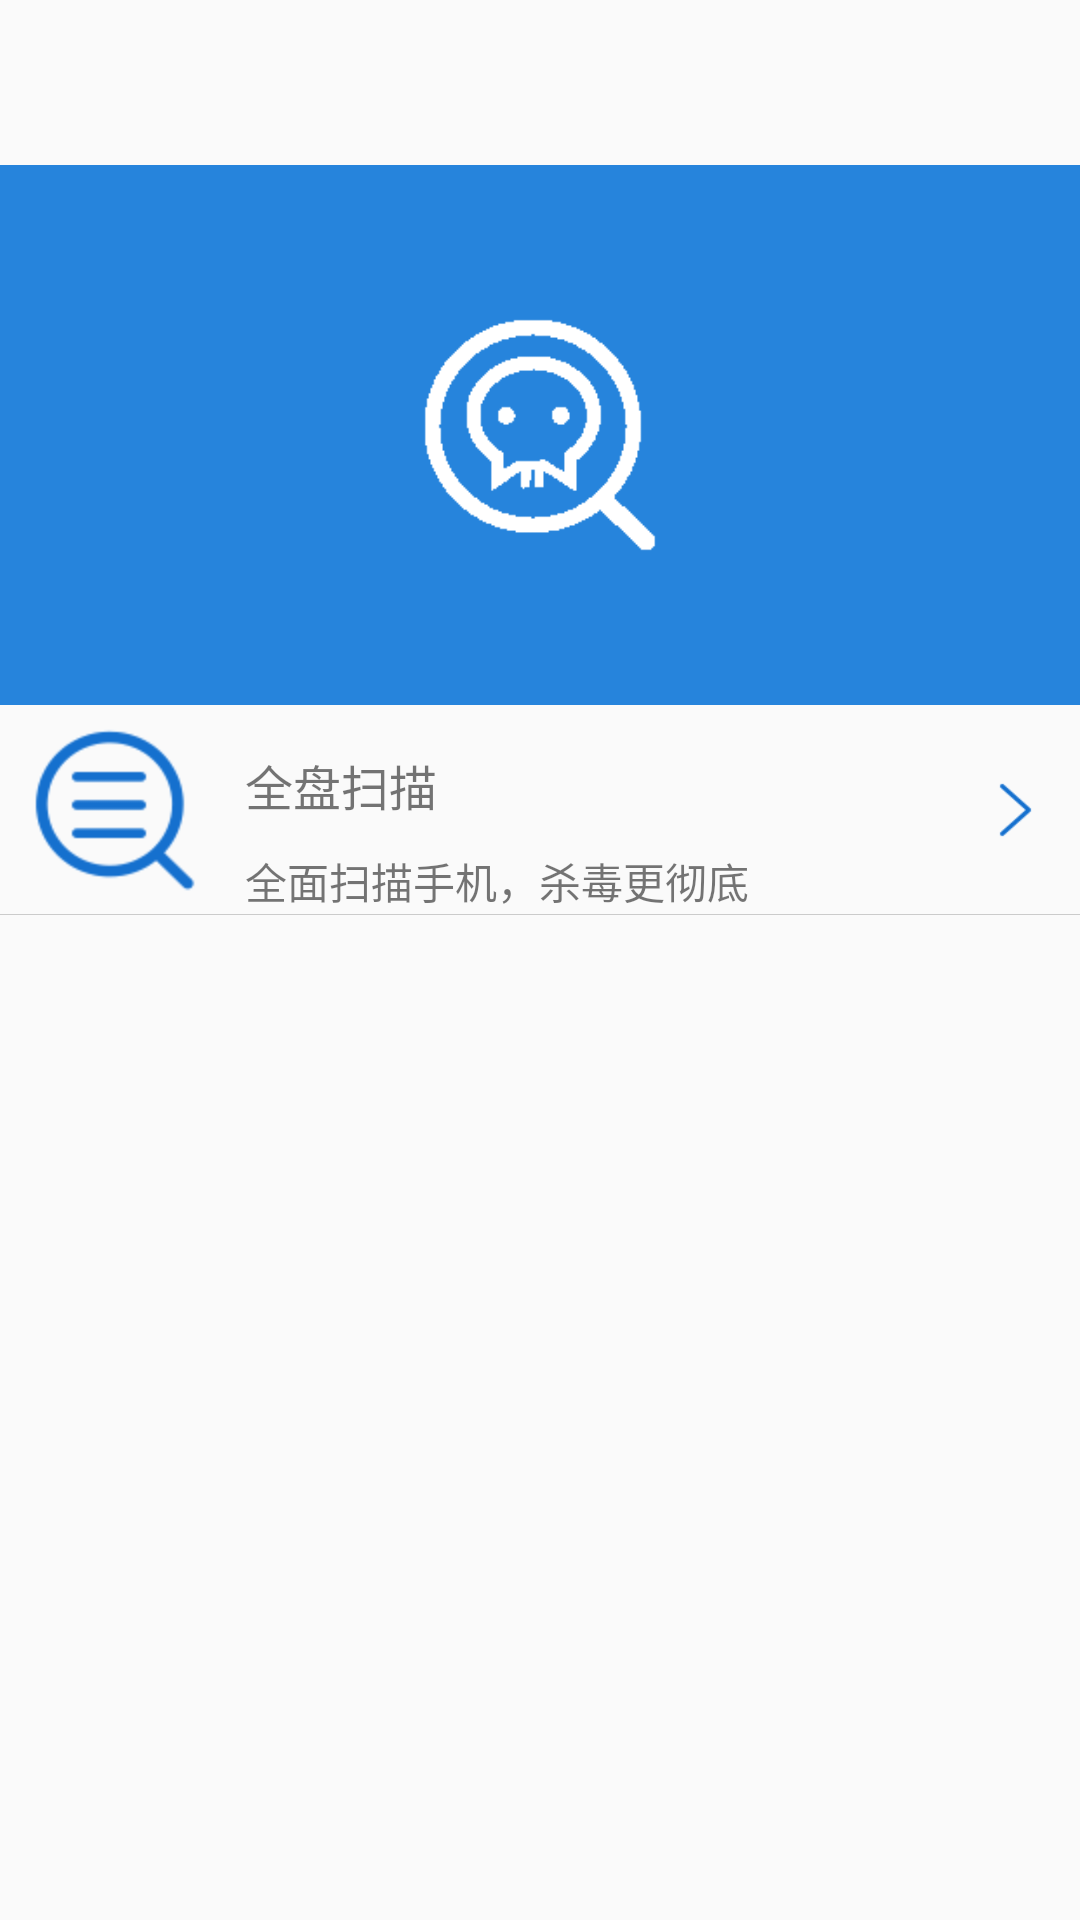

Point at icon controls on the screen. Image size 1080×1920, points as [x,y].
quickscan: [115,810]
rightarrow: [1015,809]
virusscan: [540,435]
